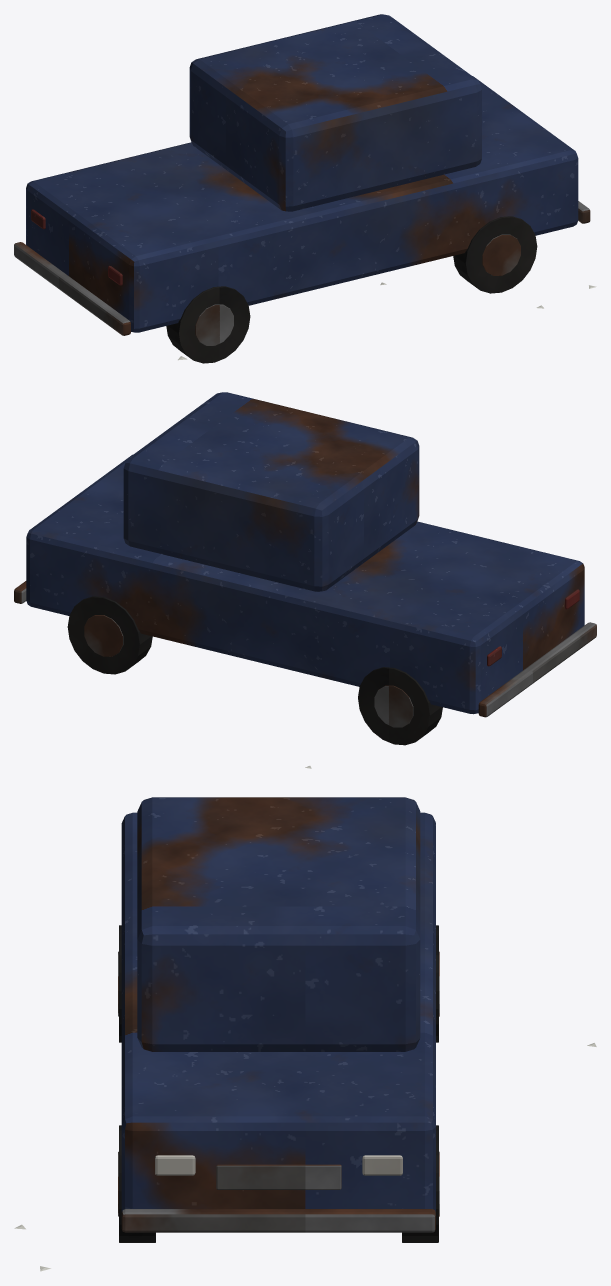
The model's file is R08_abandoned_car.glb.
The picture shows the model from 3 angles, top to bottom: view 1: azimuth 30°, elevation 25°; view 2: azimuth 150°, elevation 25°; view 3: azimuth 270°, elevation 25°; orthographic projection. The views are drawn at different scales.
Parts seen in each view (by area): view 1: R08_abandoned_car; view 2: R08_abandoned_car; view 3: R08_abandoned_car.
Part boxes in pixels (bbox=[...]): R08_abandoned_car: bbox=[14, 14, 596, 363]; R08_abandoned_car: bbox=[14, 392, 596, 768]; R08_abandoned_car: bbox=[14, 797, 596, 1271].
Bounding box in the file's own units: 4 × 1.71 × 3.02.
6 materials, 6 textured.
